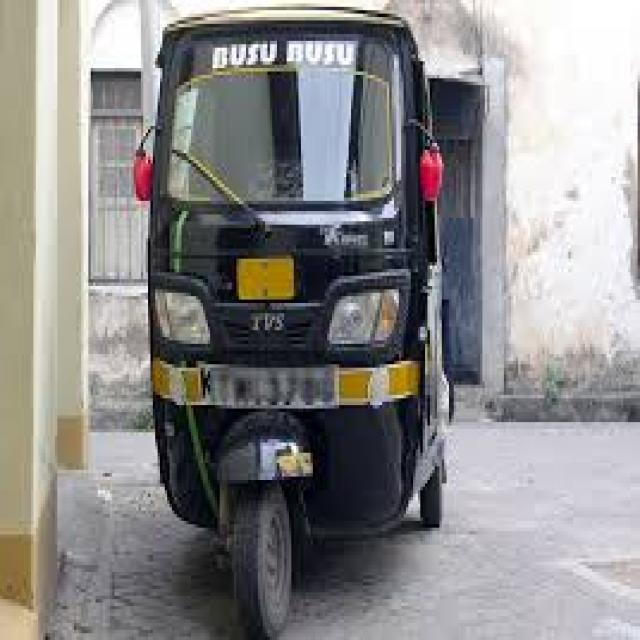tuktuk: (111, 1, 507, 640)
